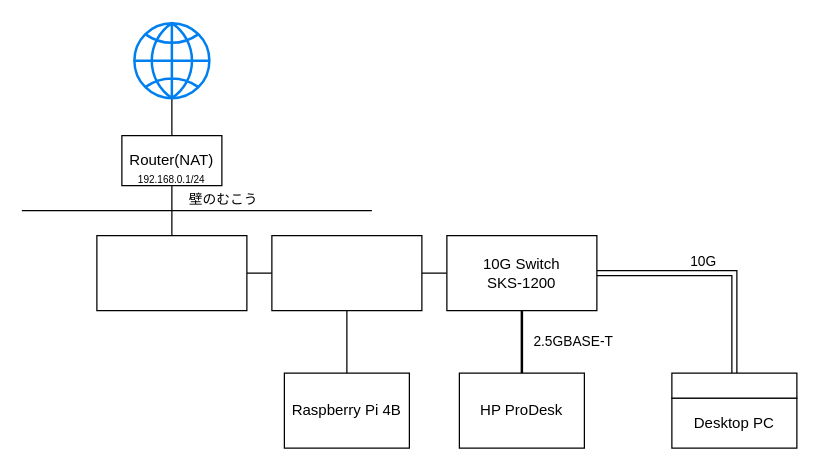
Image size: 819x470. Some labels were removed from this diagram. Each missing label, with the box of its shape:
1G Switch: (271, 234, 422, 311)
AP+Switch: (96, 234, 247, 311)
Connect-X 3: (671, 372, 797, 398)
